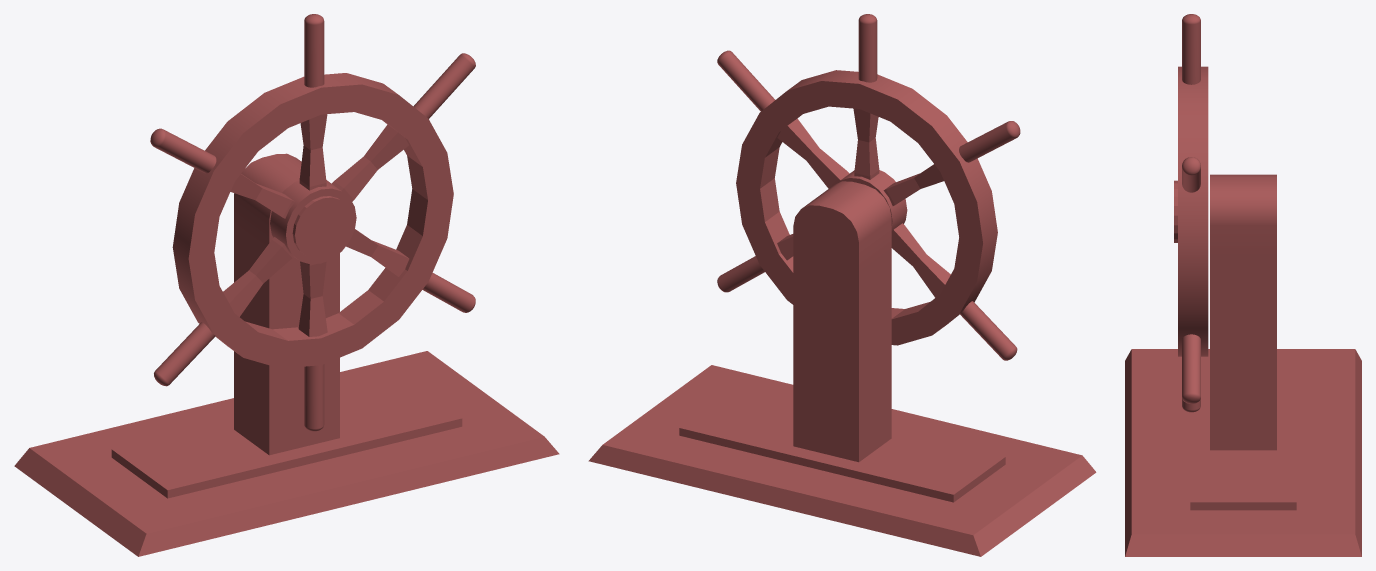
Rendered from Ship_Wheel.fbx.
3 views of the same model, side by side, from view 1: azimuth 30°, elevation 25°; view 2: azimuth 150°, elevation 25°; view 3: azimuth 270°, elevation 25° (orthographic). The views are drawn at different scales.
Visible parts, largest first — view 1: Wheel1; view 2: Wheel1; view 3: Wheel1.
Part boxes in pixels (<box>): Wheel1: <box>14,14,559,556</box>; Wheel1: <box>588,14,1096,556</box>; Wheel1: <box>1125,14,1361,556</box>.
Bounding box in the file's own units: 24.64 × 25.97 × 12.57.
